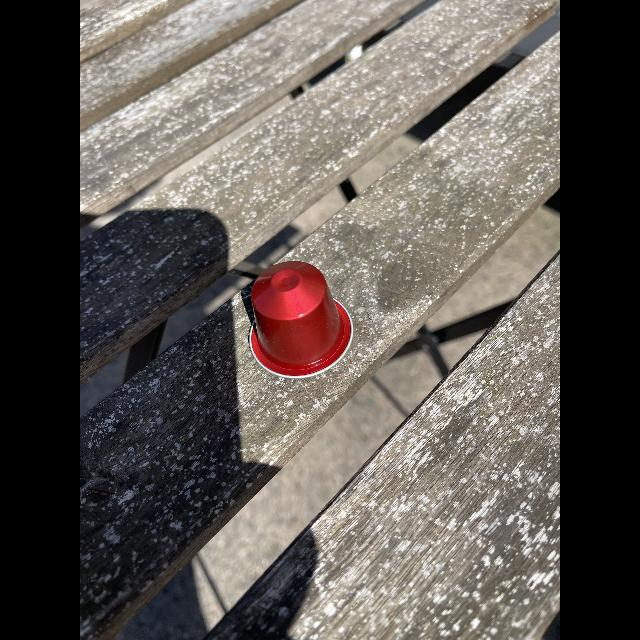intact_capsule: (243, 258, 361, 382)
